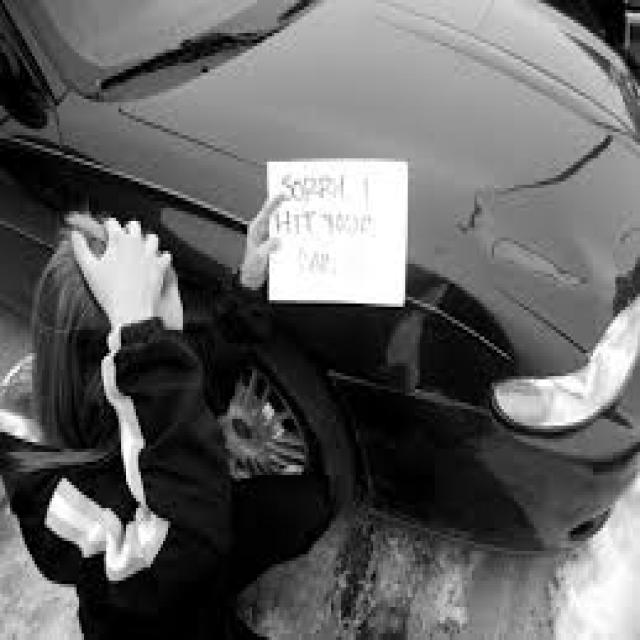minor: (455, 75, 640, 368)
